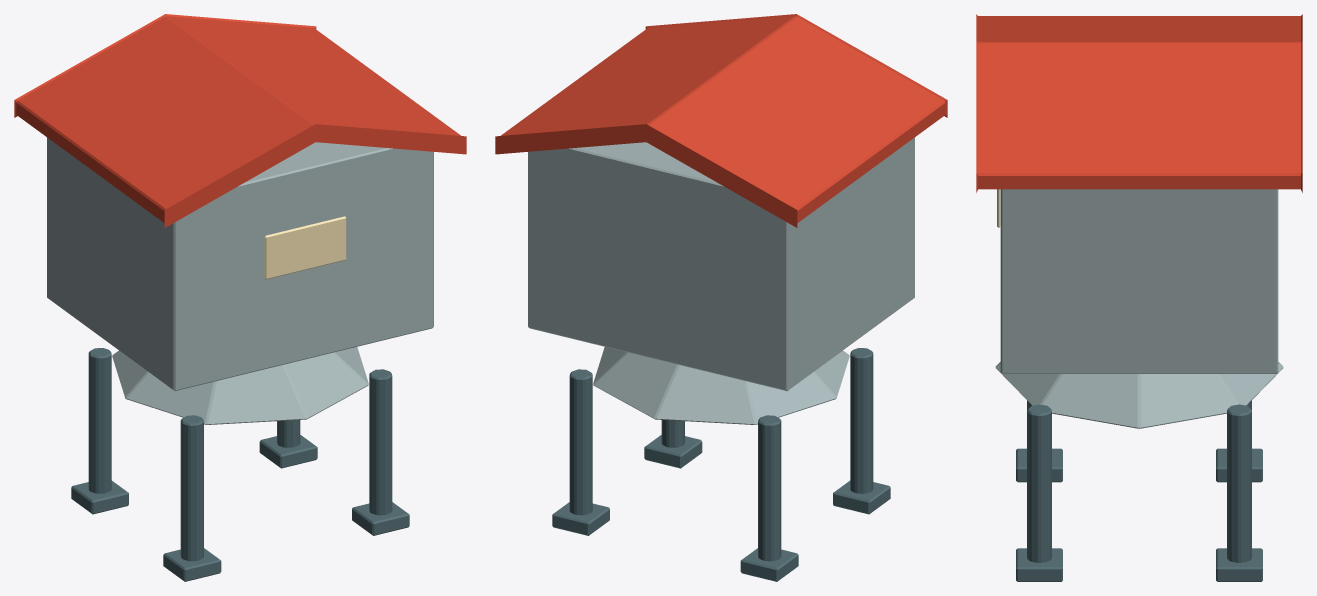
File: FTF_Building_FarmFeedBin_3_8m.glb
3 views of the same model, side by side, from view 1: azimuth 30°, elevation 25°; view 2: azimuth 150°, elevation 25°; view 3: azimuth 270°, elevation 25° (orthographic). The views are drawn at different scales.
Visible parts, largest first — view 1: FTF_Building_FarmFeedBin_3_8m_Mesh; view 2: FTF_Building_FarmFeedBin_3_8m_Mesh; view 3: FTF_Building_FarmFeedBin_3_8m_Mesh.
Boxes of the visible parts, x1,y1,x2,y2 form: FTF_Building_FarmFeedBin_3_8m_Mesh: (14, 14, 466, 581); FTF_Building_FarmFeedBin_3_8m_Mesh: (495, 14, 947, 581); FTF_Building_FarmFeedBin_3_8m_Mesh: (976, 14, 1302, 581).
Size of the model in its own units: 2.73 by 3.83 by 2.35.
